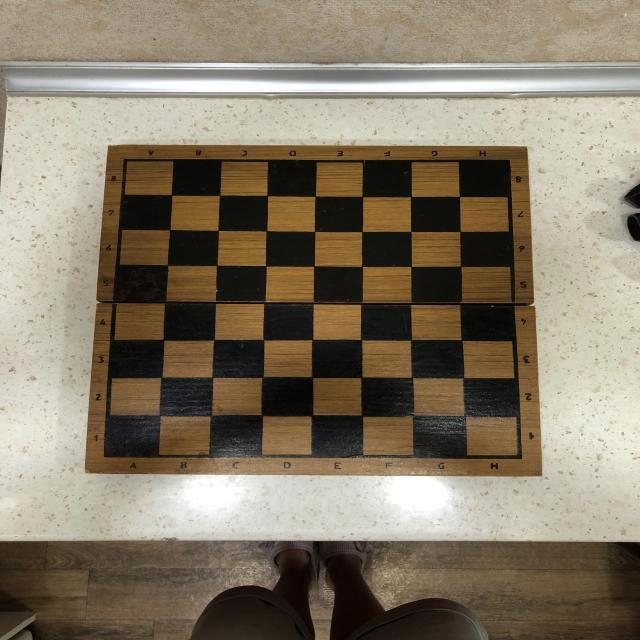chess-table-corners: (508, 449, 528, 463), (95, 450, 114, 463), (118, 154, 134, 164), (504, 155, 516, 167)
